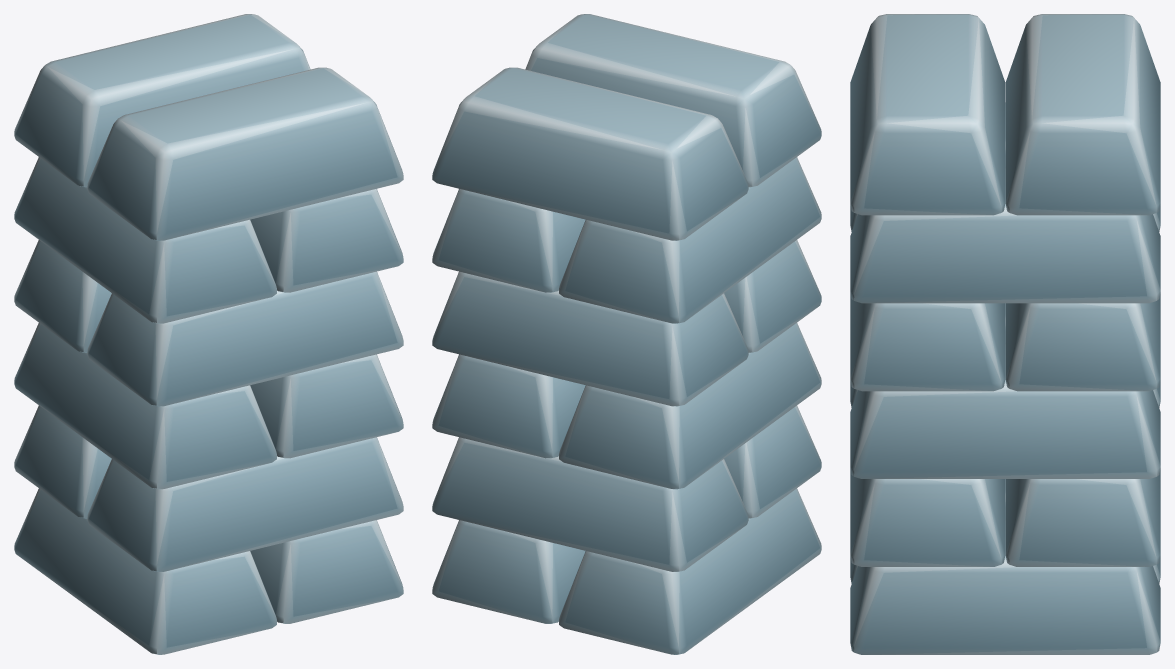
Rendered from Silver_Bars_Stack_Medium.glb.
3 views of the same model, side by side, from view 1: azimuth 30°, elevation 25°; view 2: azimuth 150°, elevation 25°; view 3: azimuth 270°, elevation 25° (orthographic). The views are drawn at different scales.
Visible parts, largest first — view 1: Silver_Bars_Stack_Medium; view 2: Silver_Bars_Stack_Medium; view 3: Silver_Bars_Stack_Medium.
Part boxes in pixels (<box>): Silver_Bars_Stack_Medium: <box>14,14,403,654</box>; Silver_Bars_Stack_Medium: <box>432,14,821,654</box>; Silver_Bars_Stack_Medium: <box>850,14,1160,654</box>.
Bounding box in the file's own units: 0.8 × 1.5 × 0.8.
Materials: 1 (1 with a texture image).
